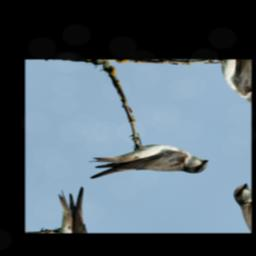Swallow: (79, 114, 212, 219)
